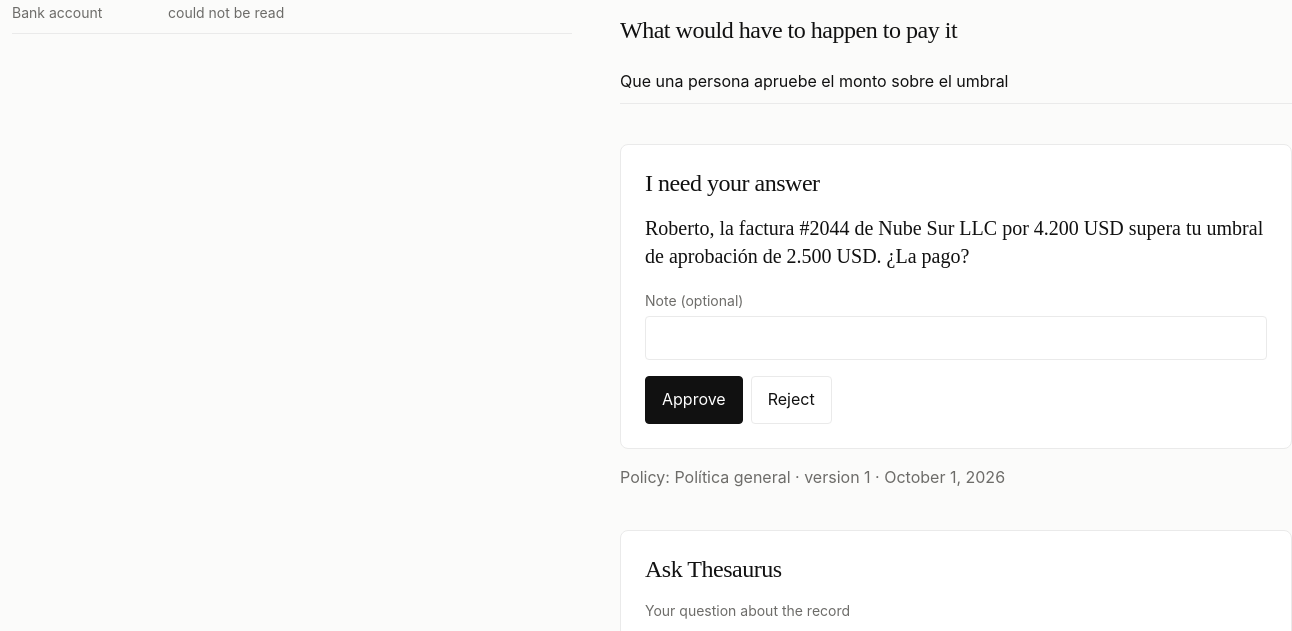
in English the dashboard 409 changed text is the English one (R-136)
(page scrolled)
Click the button "Approve".
click(694, 400)  # box [645,376,743,424]
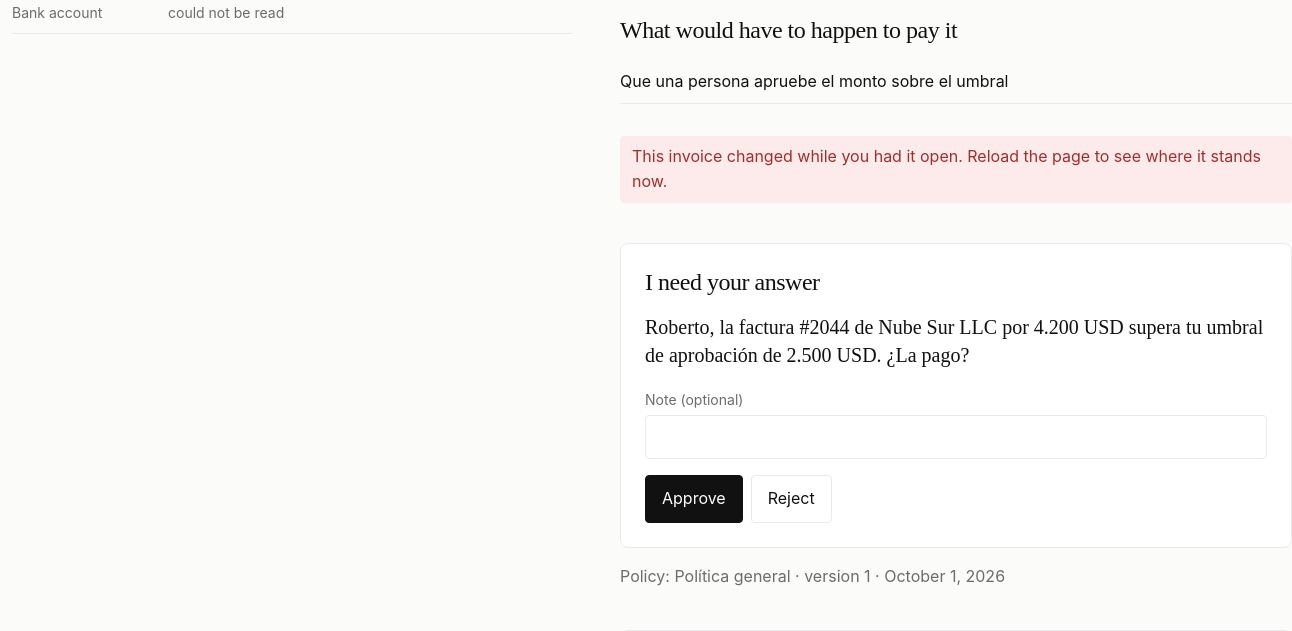
Check: the text "This invoice changed while you had it open. Reload the page to see where it stands now." is shown, box [632,146,1261,191]
